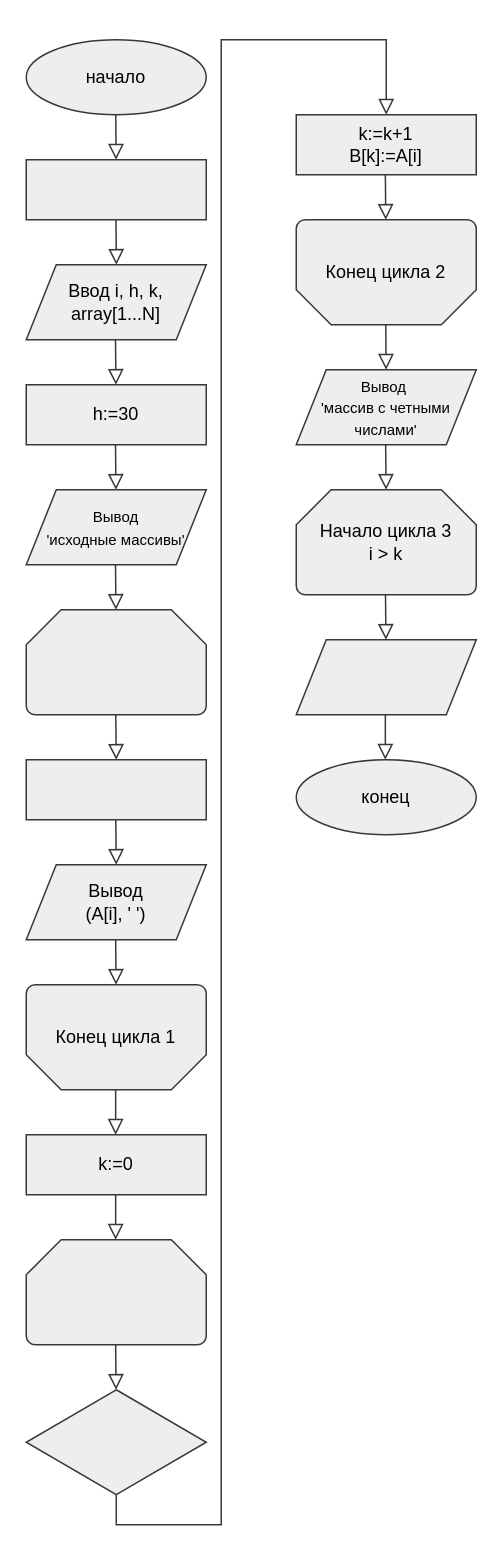
This 503x1566 diagram has some shape labels left out. The centre of each missing label's shape, as x and y in pixels:
A[i] mod 2 = 0: the point at 115,1441
A[i]:=random(167)-99: the point at 115,789
CONST N=30: the point at 115,189
Вывод (B[i], ' '): the point at 385,676
Начало цикла 1 i > h: the point at 115,661
Начало цикла 2 i > h: the point at 115,1291
